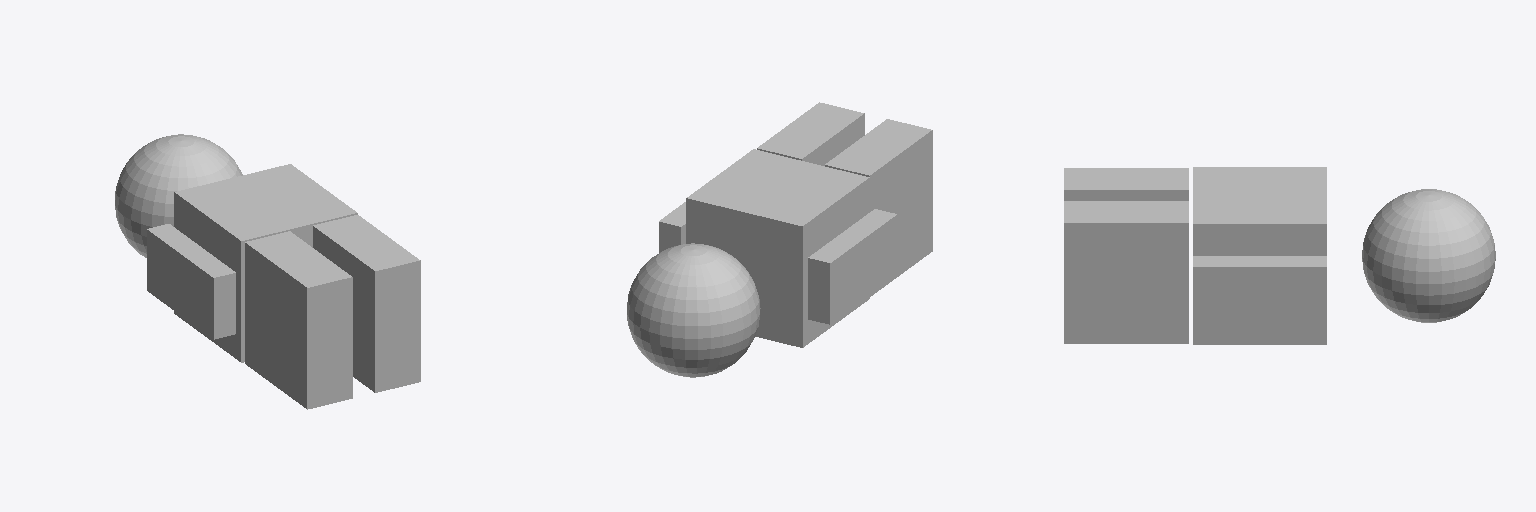
The model's file is sporty_robot_animation_000009.obj.
The picture shows the model from 3 angles: view 1: azimuth 30°, elevation 25°; view 2: azimuth 150°, elevation 25°; view 3: azimuth 270°, elevation 25°; orthographic projection.
Visible parts, largest first — view 1: Cube.002, Cube.001_Cube.005, Cube, Sphere.001, Cube.004; view 2: Cube, Sphere.001, Cube.002, Cube.004, Cube.001_Cube.005, Cube.003; view 3: Cube.001_Cube.005, Cube, Sphere.001, Cube.003, Cube.002.
Boxes of the visible parts, box(x1,y1,x2,y2) form: Cube.002: box(245, 231, 352, 409); Cube.001_Cube.005: box(313, 215, 420, 392); Cube: box(174, 164, 357, 362); Sphere.001: box(115, 134, 242, 257); Cube.004: box(147, 224, 235, 339); Cube: box(686, 149, 869, 347); Sphere.001: box(627, 243, 760, 377); Cube.002: box(825, 119, 932, 296); Cube.004: box(808, 209, 897, 324); Cube.001_Cube.005: box(757, 102, 864, 165); Cube.003: box(659, 202, 685, 252); Cube.001_Cube.005: box(1064, 201, 1188, 343); Cube: box(1193, 167, 1326, 344); Sphere.001: box(1362, 189, 1495, 322); Cube.003: box(1193, 256, 1326, 328); Cube.002: box(1064, 168, 1188, 200).
Bounding box in the file's own units: 0.76 × 0.514 × 1.65.